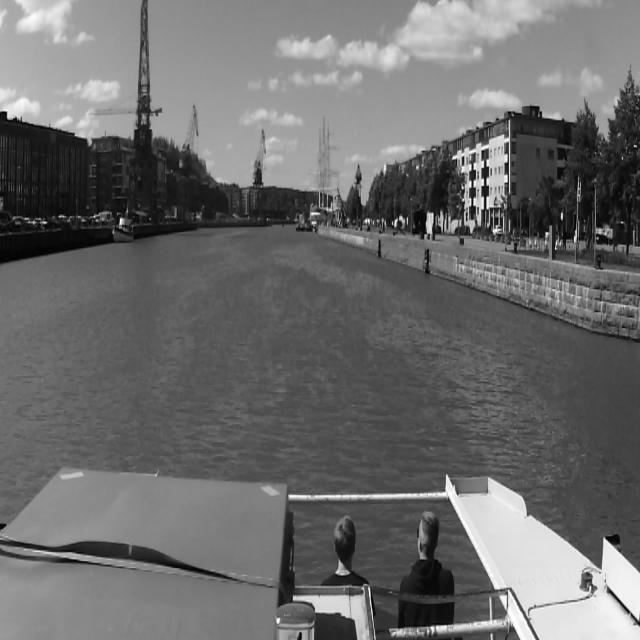ship: (307, 110, 341, 220), (112, 218, 134, 240), (296, 214, 304, 231), (304, 221, 316, 232)
